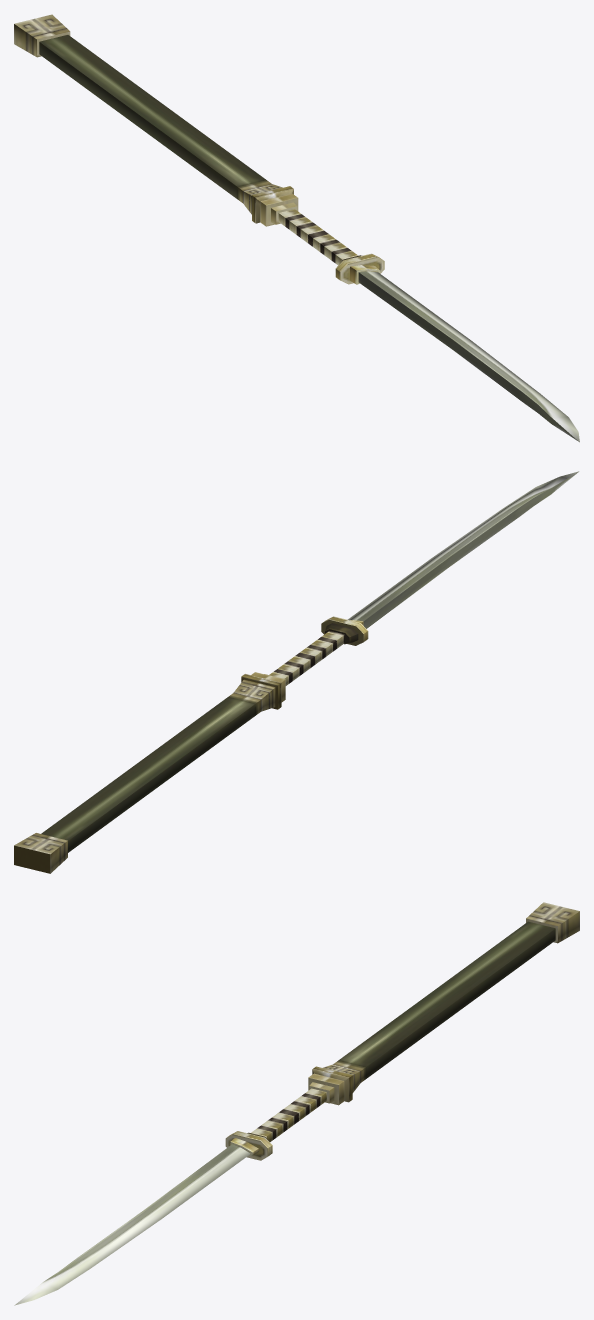
3 views of the same model, one above another, from view 1: azimuth 30°, elevation 25°; view 2: azimuth 150°, elevation 25°; view 3: azimuth 330°, elevation 25° (orthographic). The views are drawn at different scales.
Parts seen in each view (by area): view 1: w9_0a; view 2: w9_0a; view 3: w9_0a.
Boxes of the visible parts, bbox=[...] form: w9_0a: bbox=[14, 14, 579, 442]; w9_0a: bbox=[14, 471, 579, 873]; w9_0a: bbox=[14, 902, 579, 1305].
Bounding box in the file's own units: 2.26 × 1.24 × 49.55.
Materials: 1 (1 with a texture image).
